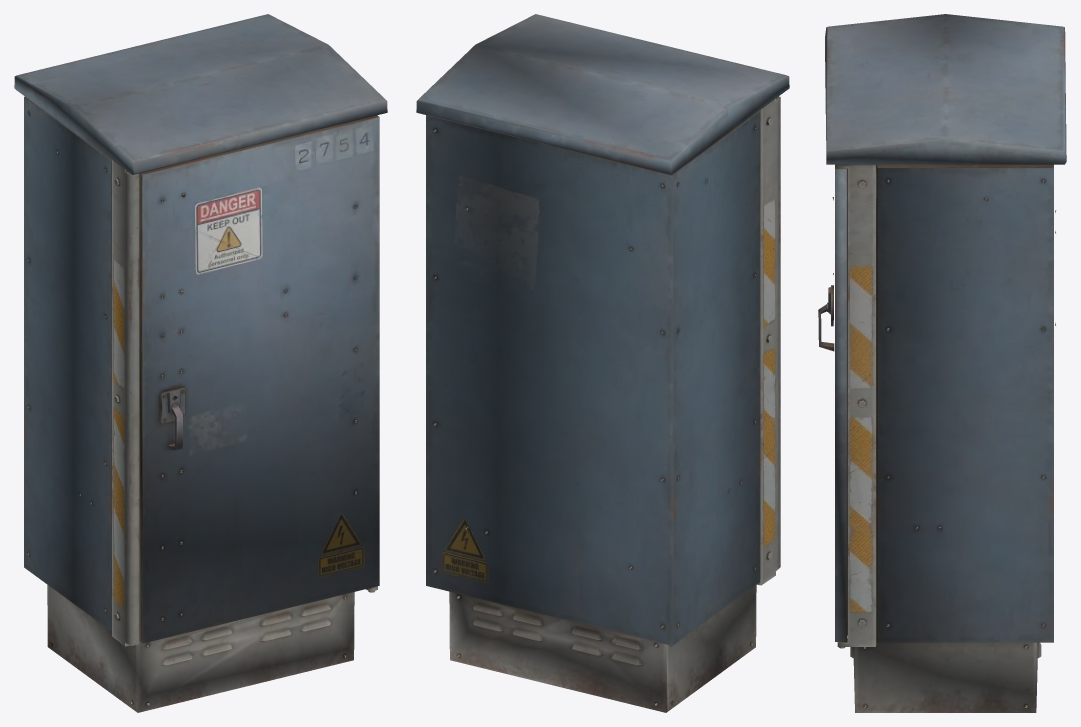
File: ph_utility_box_01.glb
The picture shows the model from 3 angles, left to right: view 1: azimuth 30°, elevation 25°; view 2: azimuth 150°, elevation 25°; view 3: azimuth 270°, elevation 25°; orthographic projection.
Visible parts, largest first — view 1: utility_box_01_box; view 2: utility_box_01_box; view 3: utility_box_01_box.
Part boxes in pixels (bbox=[...]): utility_box_01_box: bbox=[14, 14, 387, 712]; utility_box_01_box: bbox=[416, 14, 789, 712]; utility_box_01_box: bbox=[818, 14, 1066, 712].
Size of the model in its own units: 0.5164 by 1.12 by 0.4312.
1 material, 1 textured.
